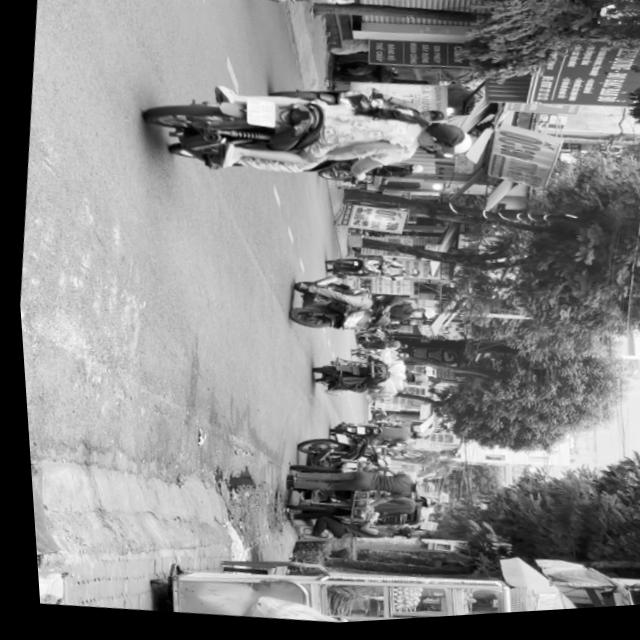helmet: (423, 132, 474, 163)
licenseplate: (135, 62, 483, 208), (279, 272, 439, 349), (230, 0, 461, 31)
motorcyclist: (409, 121, 463, 157)
nohelmet: (244, 99, 279, 129)
